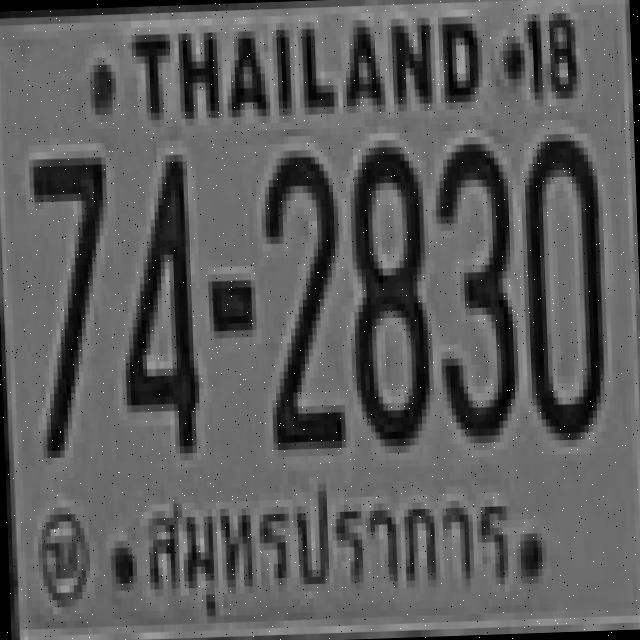0: (518, 132, 606, 434)
2: (258, 145, 342, 446)
3: (429, 136, 516, 437)
4: (113, 147, 196, 448)
7: (28, 150, 111, 450)
8: (344, 138, 426, 440)
SamutPrakan: (135, 470, 522, 638)
